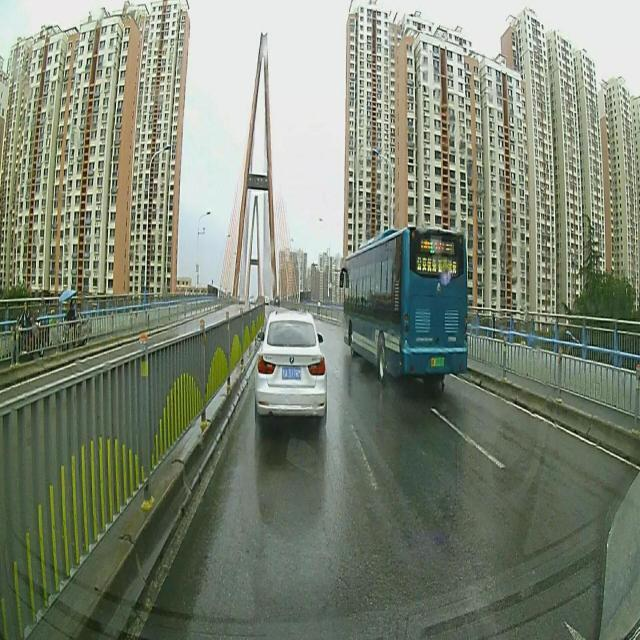car: (254, 308, 326, 436)
